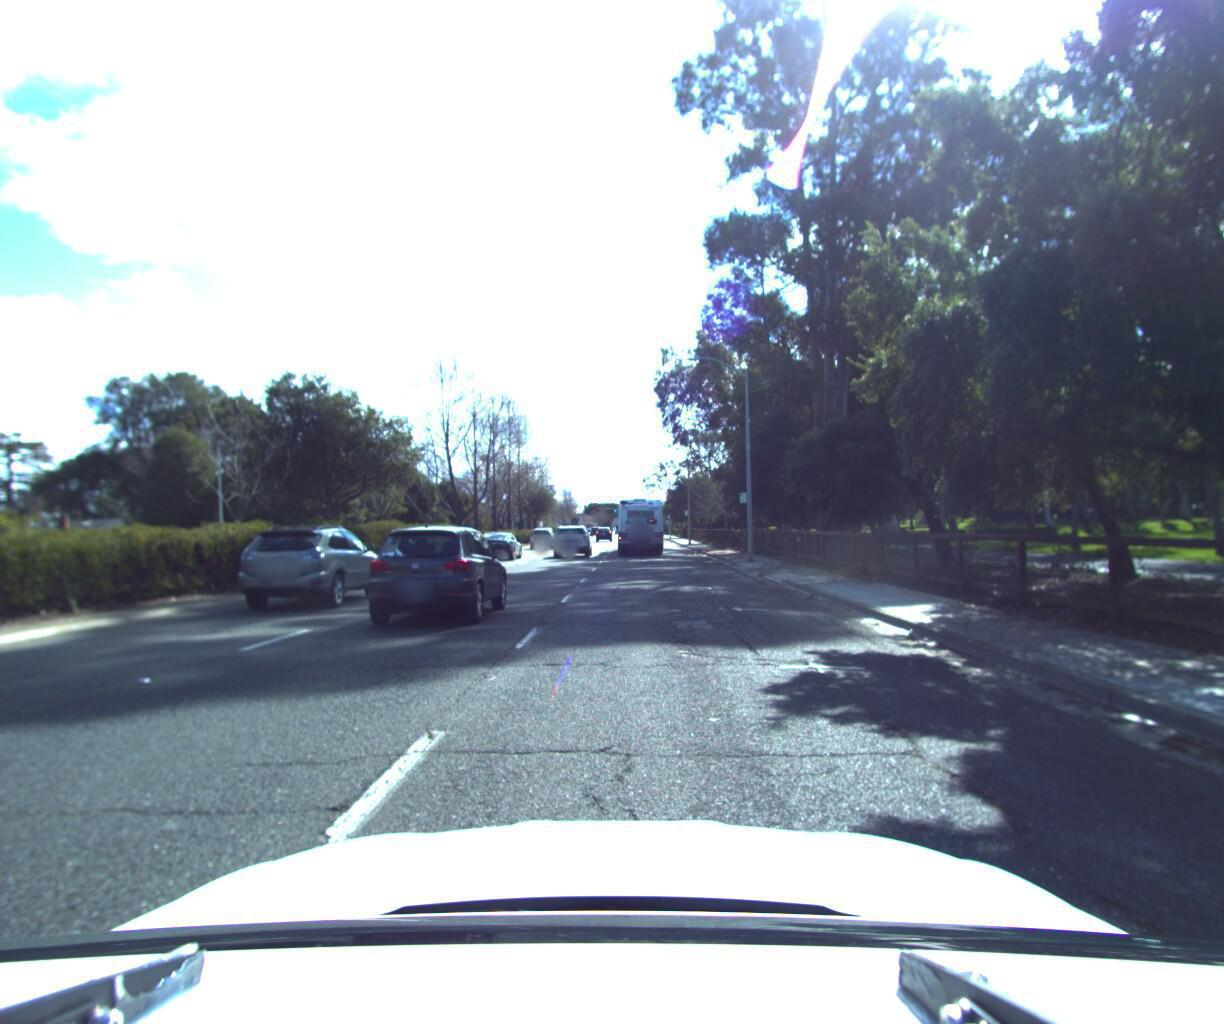bus: (613, 491, 667, 555)
car: (359, 519, 513, 629), (229, 522, 392, 612), (475, 531, 524, 561), (551, 524, 592, 558), (529, 524, 560, 546)
